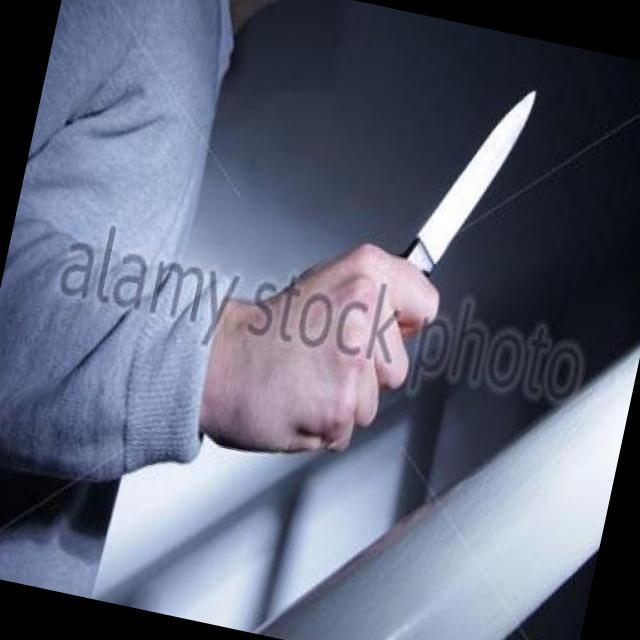Knife: (312, 46, 542, 408)
